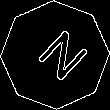N_SW: (23, 23, 87, 87)
